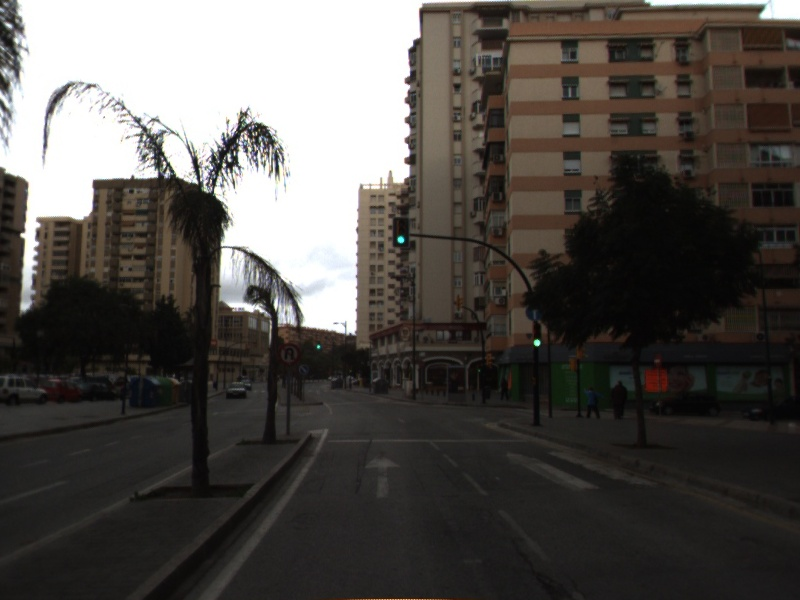STRAIGHT: (362, 450, 404, 501)
